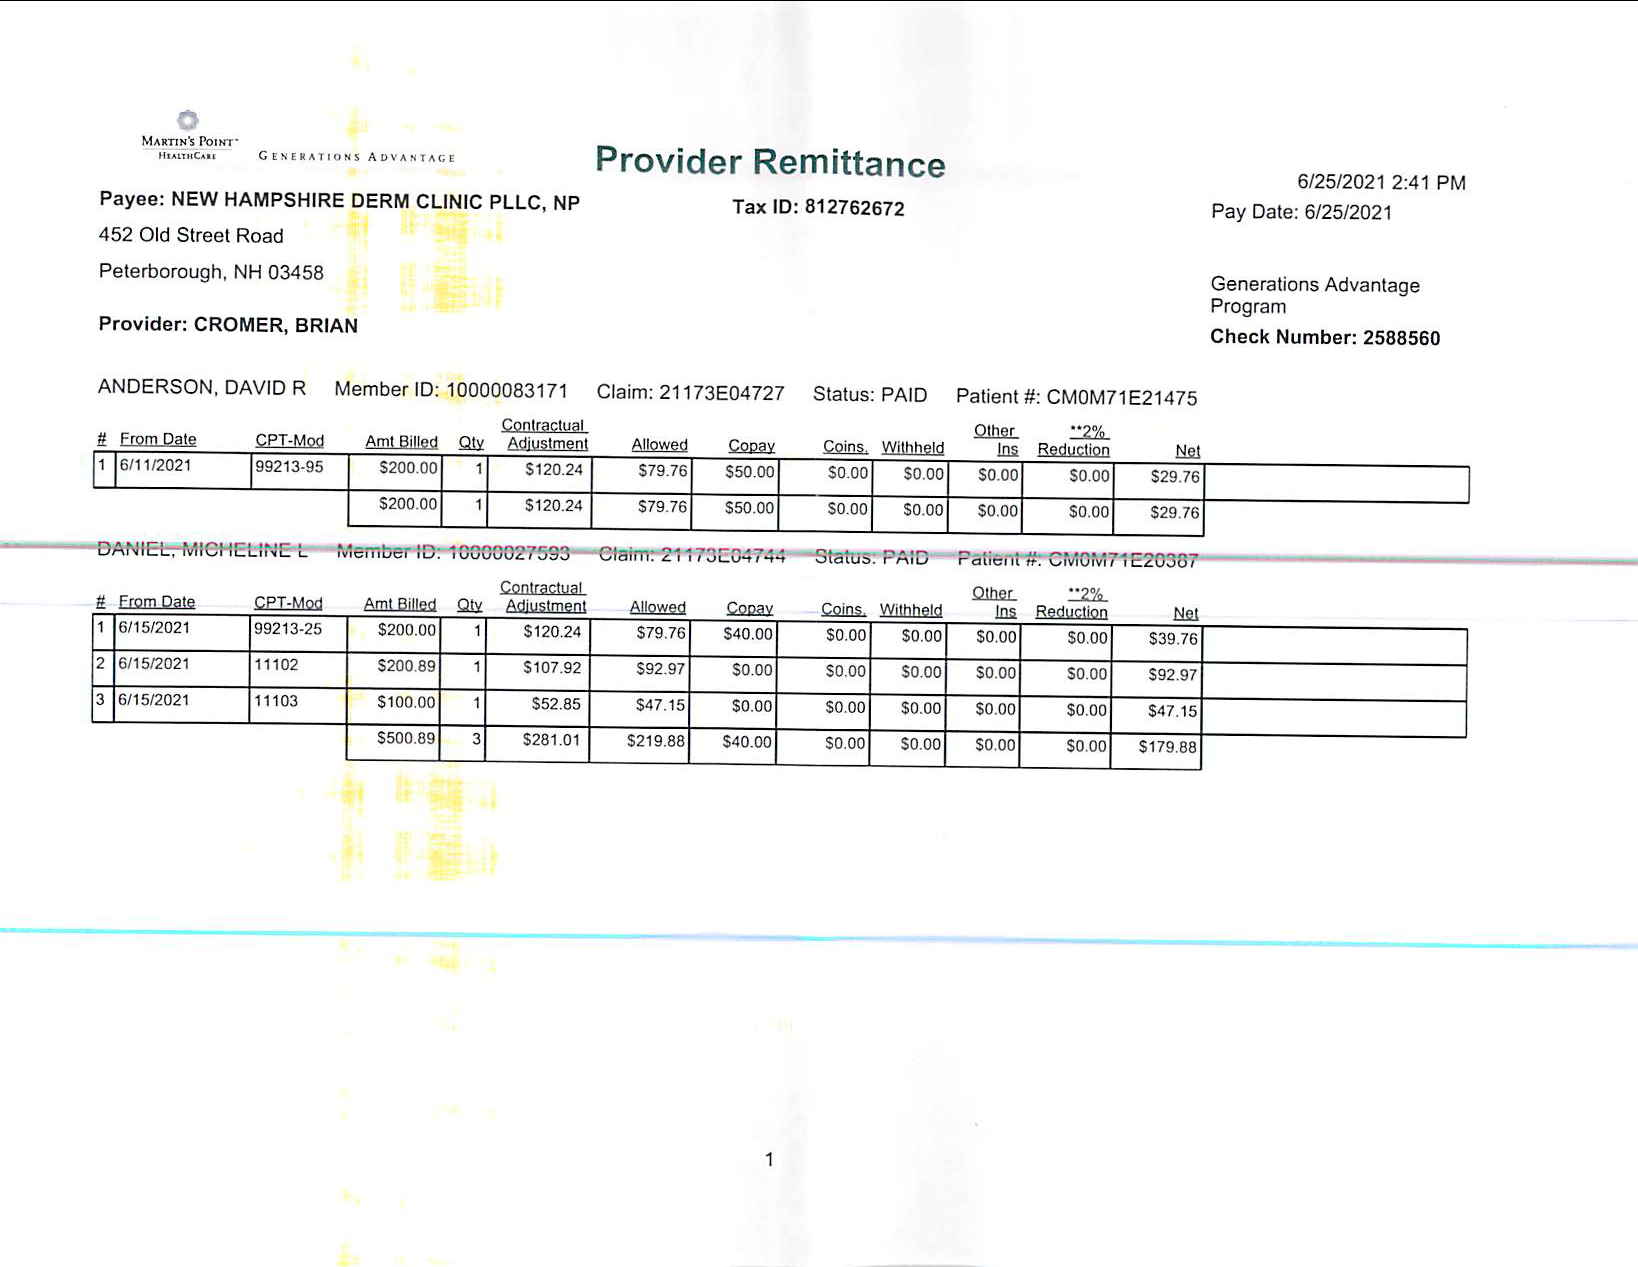data: (92, 222, 368, 340), (1201, 265, 1448, 364)
table: (82, 578, 1213, 778), (82, 363, 1215, 544)
